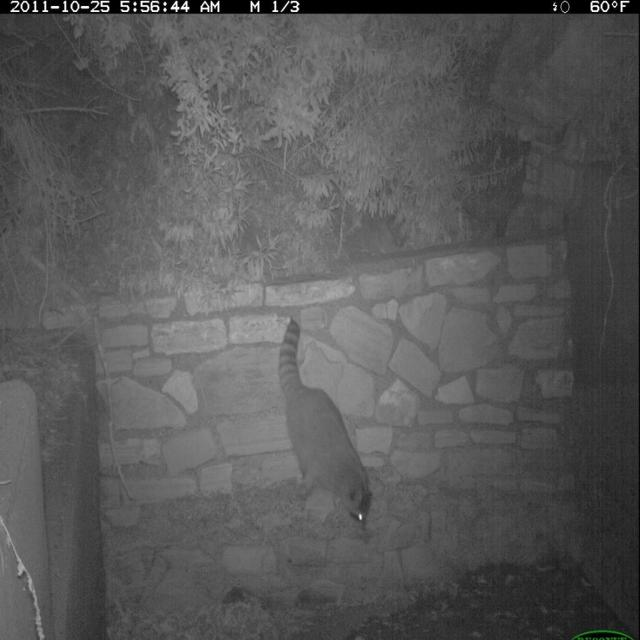raccoon: (274, 316, 377, 540)
